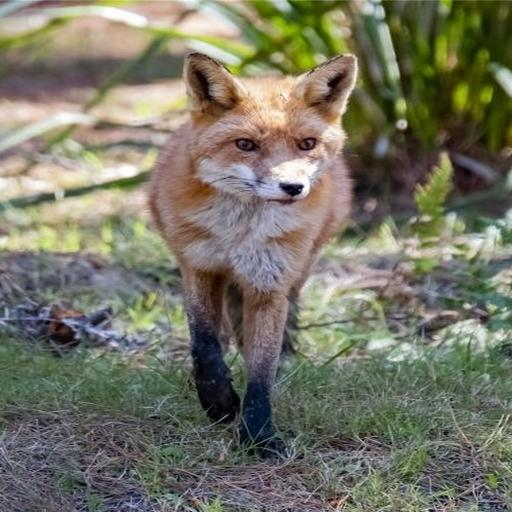Fox: (146, 44, 360, 460)
